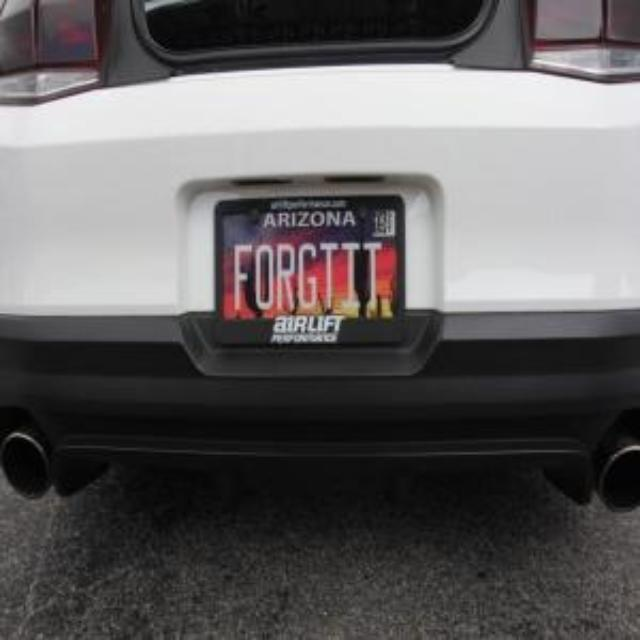License Plate: (218, 196, 404, 350)
